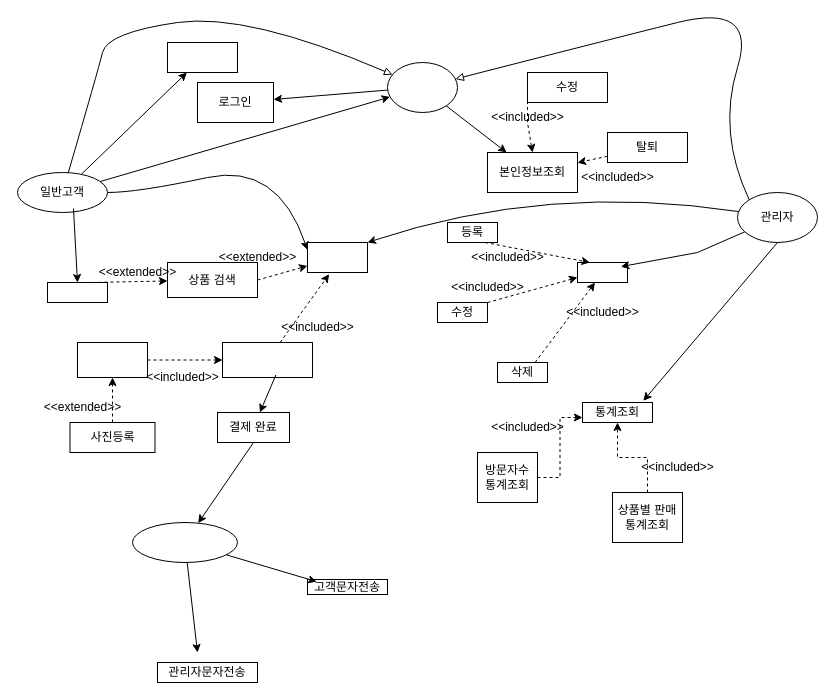
Image size: 835x700. Some labels were removed from this diagram. The shapes that lost their labels are listed below. From the top down, each one's centre as x and y in pixels, then its label:
point 202,57: 회원가입
point 422,87: 사용자
point 337,257: 상품조회
point 602,272: 상품관리
point 77,292: 리뷰조회
point 112,360: 리뷰등록
point 267,360: 상품구매
point 185,542: sms문자시스템
